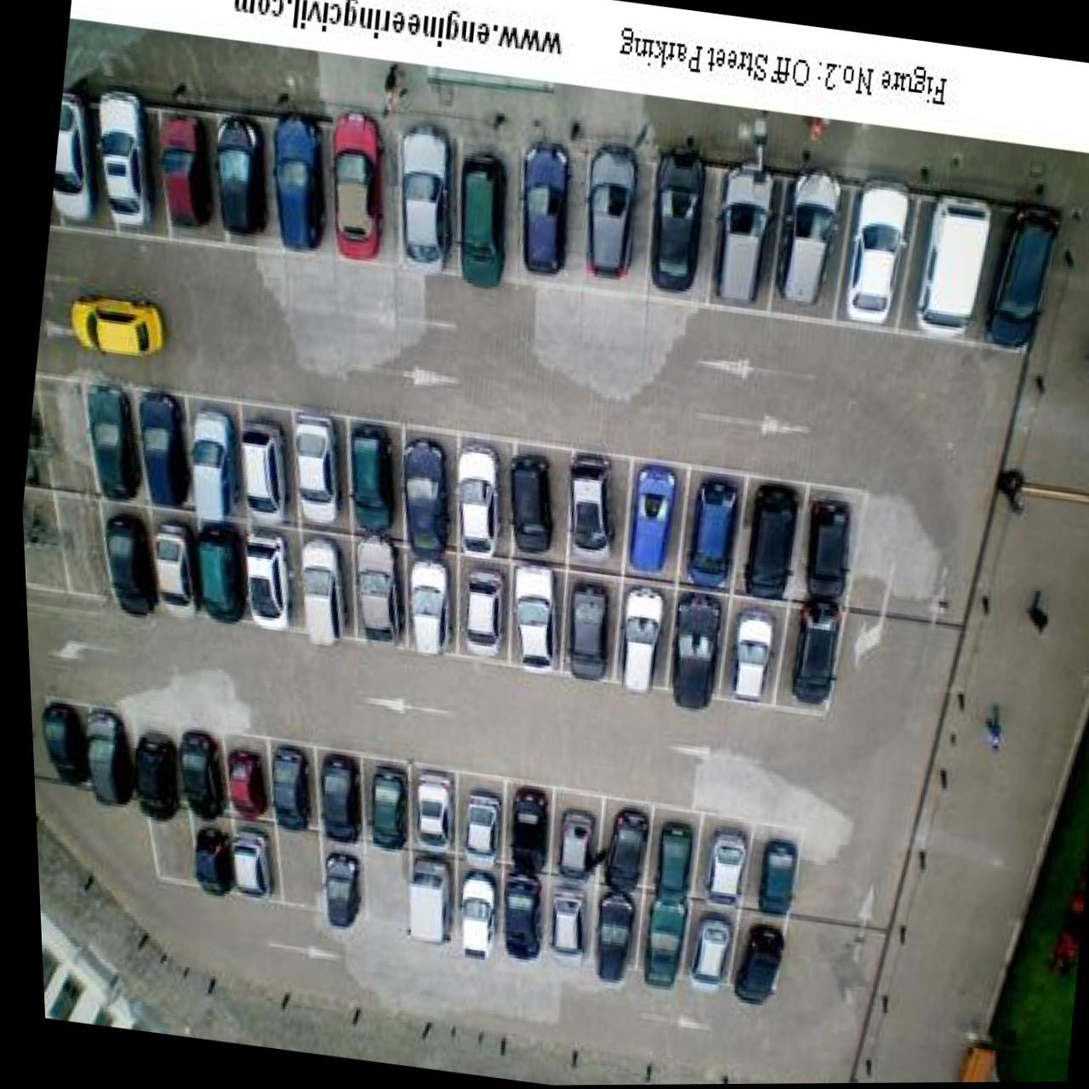cars: (893, 184, 1013, 357), (573, 125, 676, 305), (637, 141, 735, 317), (823, 175, 926, 339), (320, 96, 414, 269), (697, 149, 794, 316), (442, 115, 530, 290), (509, 126, 604, 285), (760, 171, 856, 328), (266, 98, 352, 262), (387, 108, 473, 266), (153, 91, 236, 248), (980, 198, 1059, 360), (98, 98, 183, 247), (214, 105, 294, 251), (732, 475, 815, 602), (618, 454, 698, 580), (656, 585, 735, 712), (50, 90, 119, 232), (282, 419, 360, 544), (561, 454, 640, 575), (506, 437, 583, 560), (77, 691, 152, 816), (179, 383, 244, 522), (719, 597, 793, 719), (551, 571, 627, 688), (302, 732, 378, 849), (448, 429, 518, 556), (611, 577, 681, 702), (396, 419, 460, 554), (141, 509, 213, 626), (235, 528, 307, 642), (100, 500, 168, 620), (504, 564, 574, 680), (680, 477, 750, 593), (90, 370, 149, 507), (450, 555, 520, 669), (795, 485, 862, 604), (346, 419, 409, 545), (134, 389, 198, 513), (189, 518, 258, 631), (232, 408, 298, 526), (31, 696, 100, 804), (541, 788, 616, 886), (399, 560, 466, 668), (494, 770, 561, 878), (443, 761, 510, 869), (640, 800, 708, 905), (351, 539, 413, 652), (594, 797, 659, 904), (130, 714, 195, 821), (289, 538, 358, 637), (780, 609, 842, 716), (174, 709, 237, 814), (357, 746, 421, 848), (633, 898, 697, 991), (738, 824, 800, 917), (445, 863, 507, 956), (217, 732, 281, 822), (689, 814, 752, 903), (402, 853, 459, 951), (680, 904, 743, 991), (402, 757, 461, 849), (589, 891, 647, 983), (737, 914, 798, 1001), (535, 886, 601, 965), (321, 840, 374, 932), (232, 815, 287, 899), (497, 884, 549, 970), (190, 819, 243, 893)
empty: (37, 369, 101, 493), (137, 804, 210, 896), (21, 474, 74, 590), (57, 486, 111, 597), (360, 847, 414, 927), (273, 826, 325, 904)
